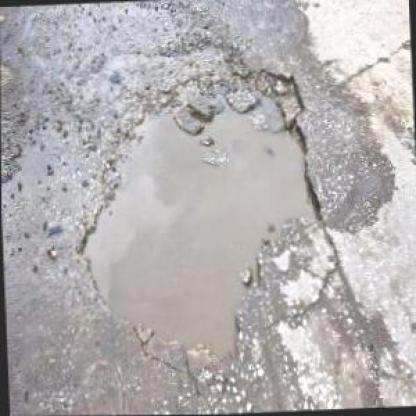pothole: (68, 64, 330, 373)
